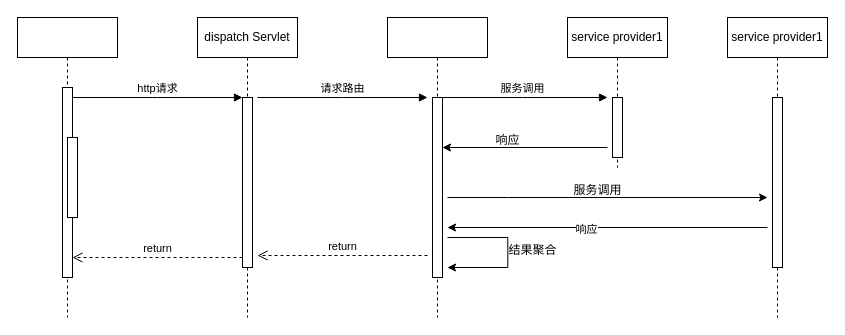
This 845x335 diagram has some shape labels left out. Each missing label, with the box of its shape:
Controller: (386, 16, 488, 318)
访问层: (16, 16, 118, 318)
